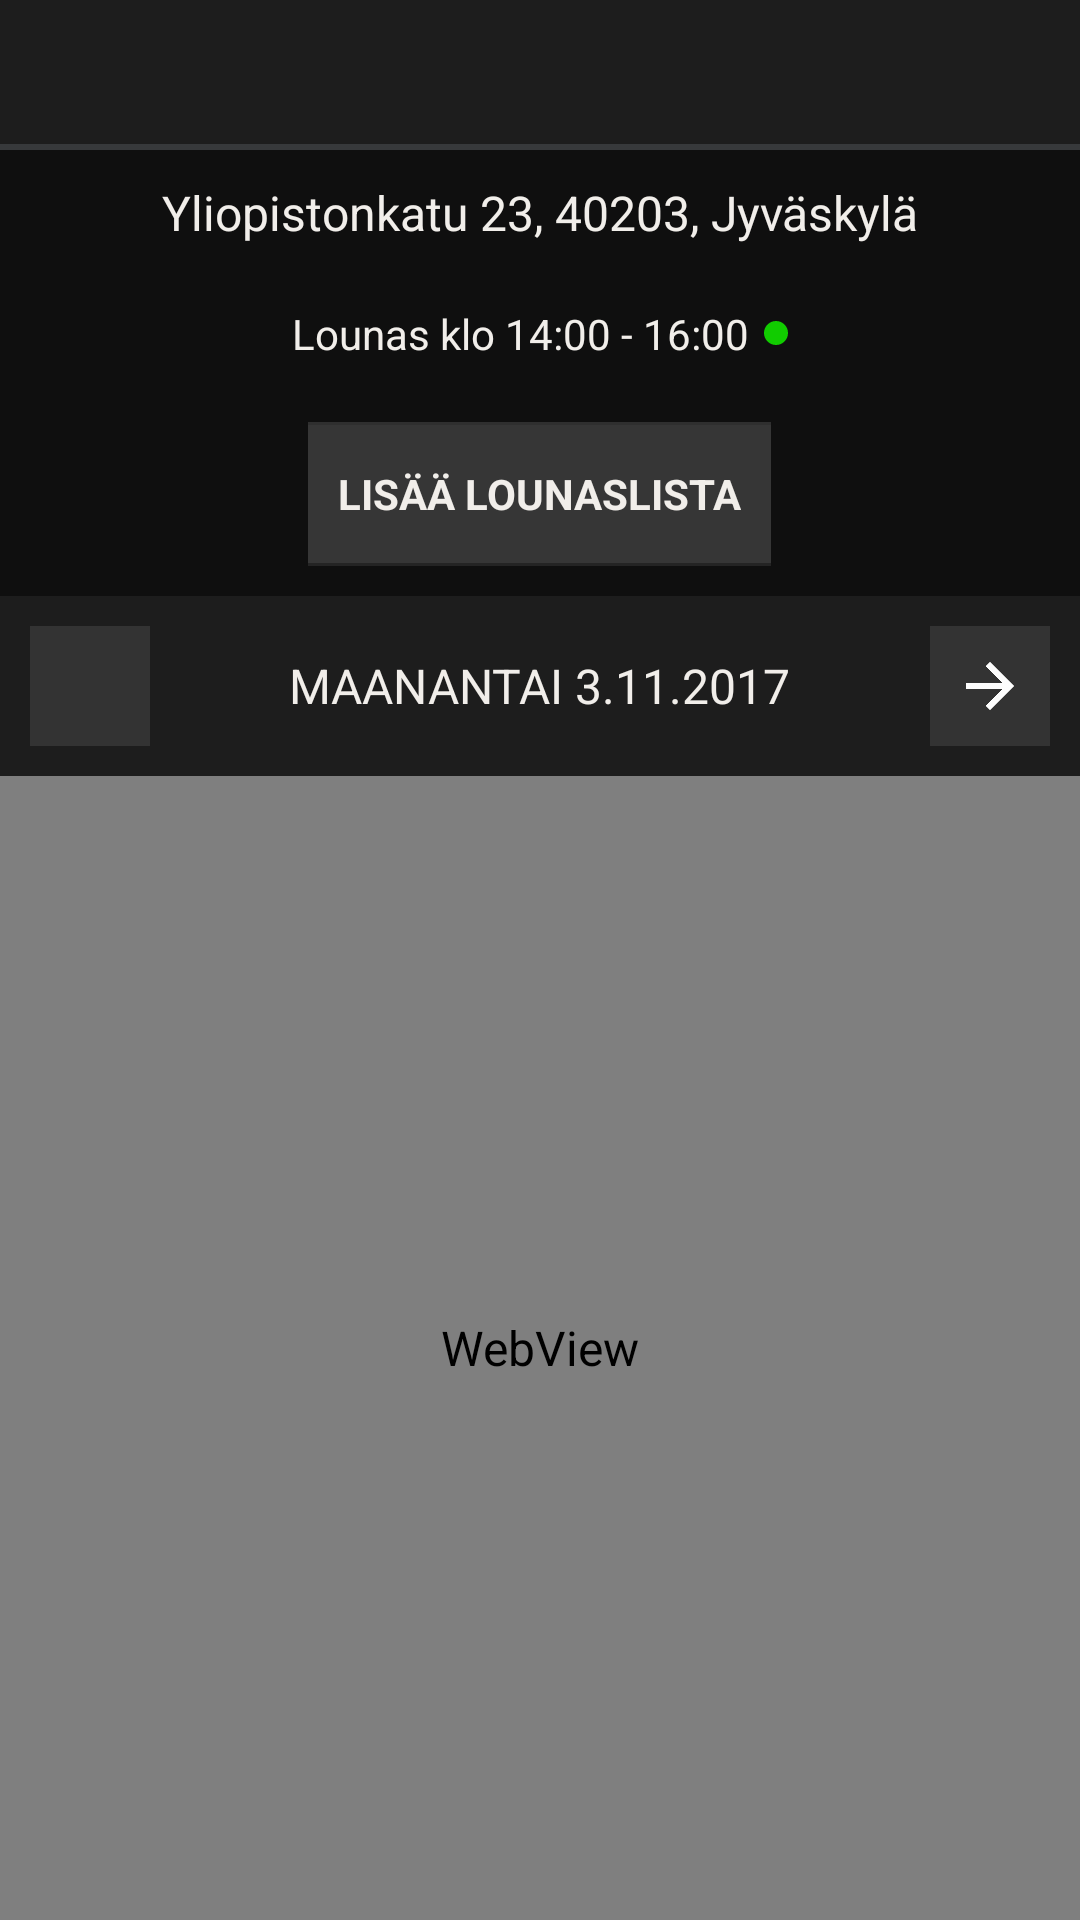

Screen size 1080*1920. Icon name, then its box in pixels as (x1, y1, x2, y2):
next: (930, 626, 1050, 746)
